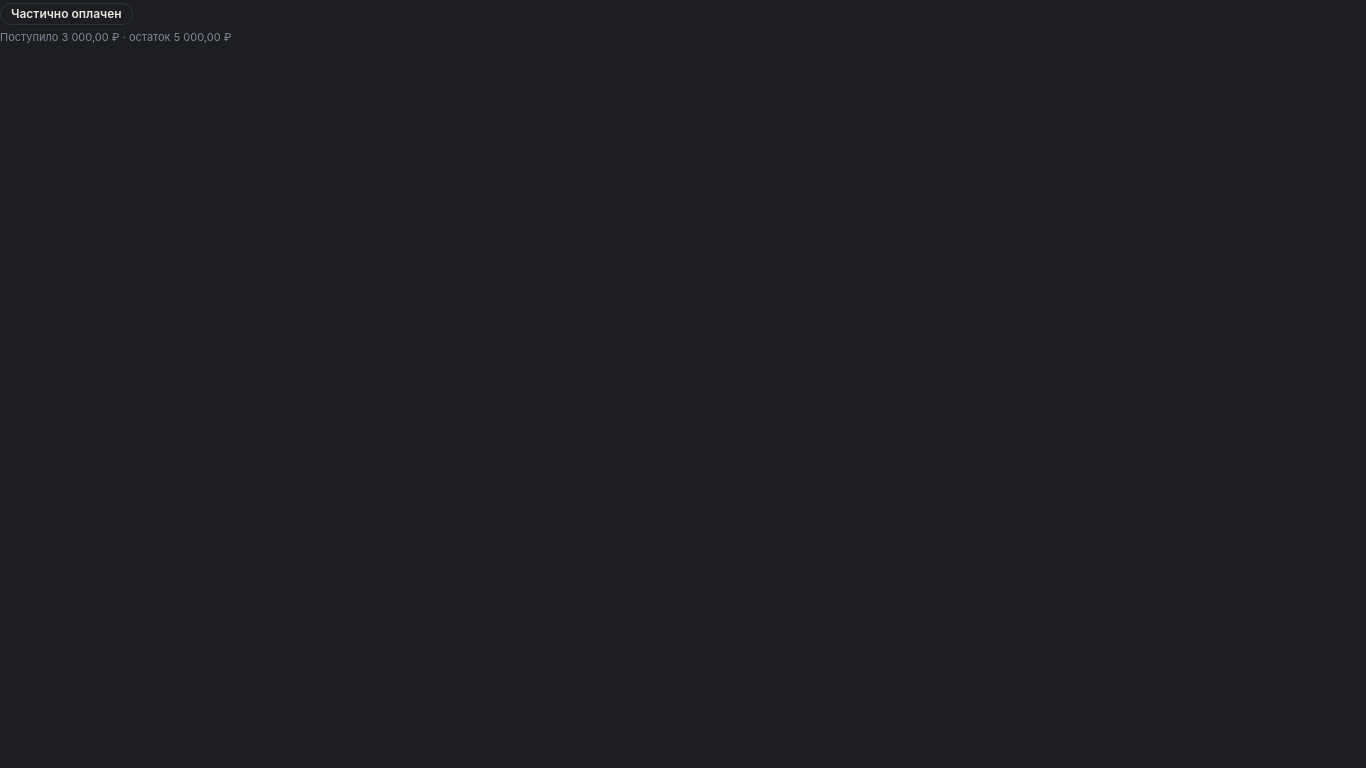
payment details CRM › uses the exact saved client ID and displays saved discounted remaining amounts
Expected: the text "Поступило 3 000,00 ₽ · остаток 5 000,00 ₽" is shown, [0,29,231,46]
Click the button with aria-label "Оплата: Договор №20": [66, 12] box [0,0,133,25]
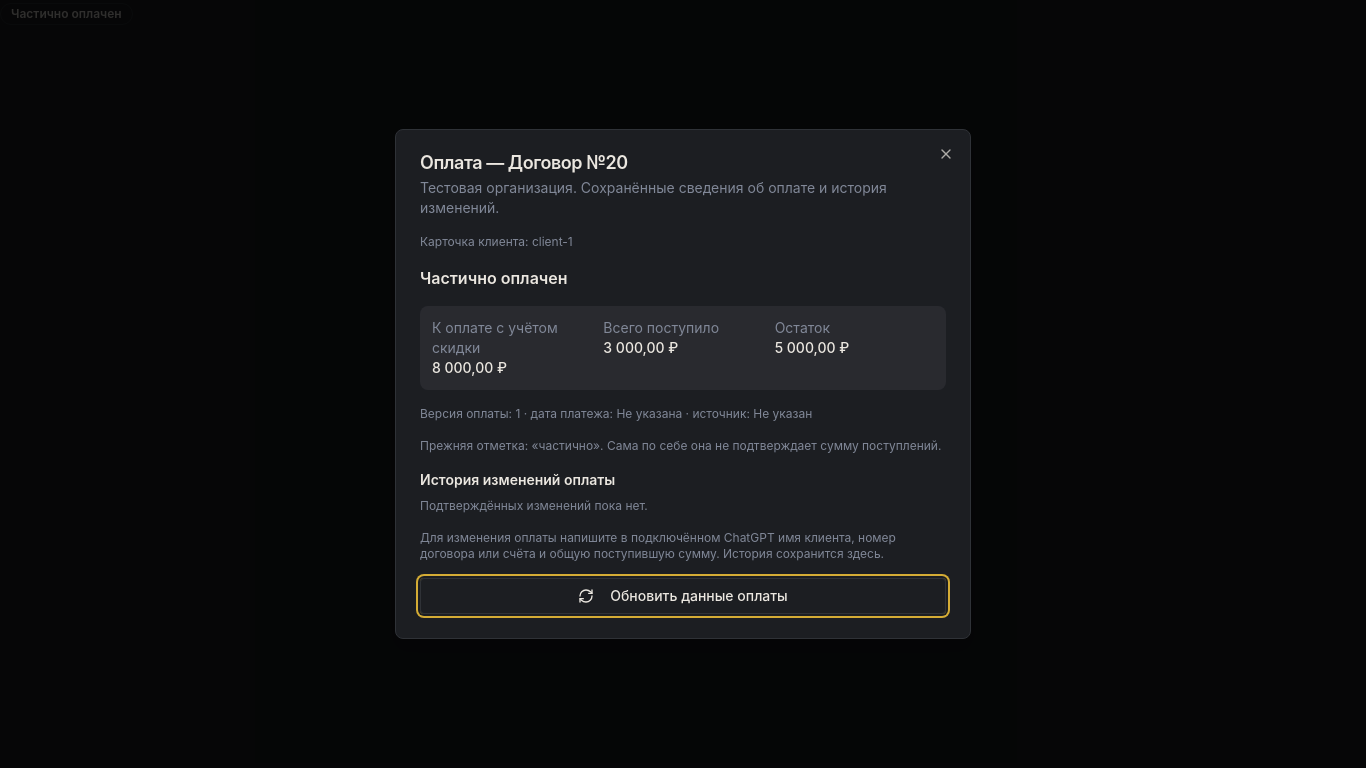
Expected: the text "К оплате с учётом скидки" is shown, [432,319,558,356]
Expected: the text "8 000,00 ₽" is shown, [432,359,507,376]
